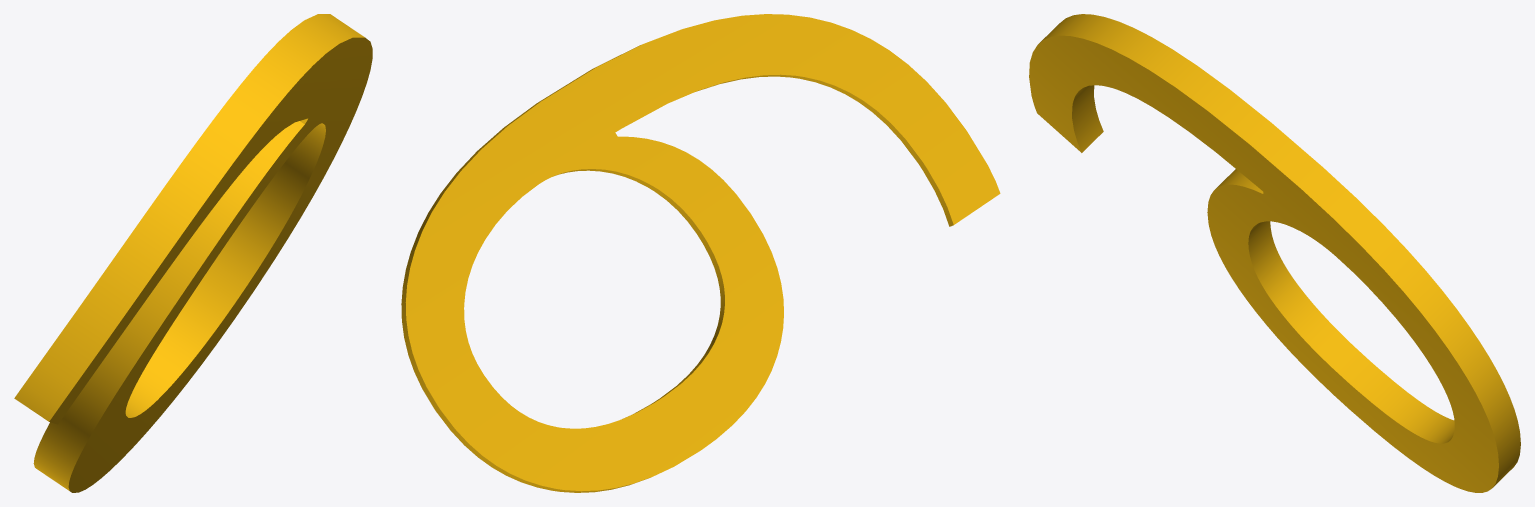
The model's file is Number_6.gltf.
3 views of the same model, side by side, from view 1: azimuth 30°, elevation 25°; view 2: azimuth 150°, elevation 25°; view 3: azimuth 270°, elevation 25° (orthographic). The views are drawn at different scales.
Parts seen in each view (by area): view 1: Sub_4_Cell_2_3_Number_6; view 2: Sub_4_Cell_2_3_Number_6; view 3: Sub_4_Cell_2_3_Number_6.
Part boxes in pixels (<box>): Sub_4_Cell_2_3_Number_6: <box>14,14,372,492</box>; Sub_4_Cell_2_3_Number_6: <box>401,14,1000,492</box>; Sub_4_Cell_2_3_Number_6: <box>1029,14,1520,492</box>.
Size of the model in its own units: 0.0207 by 0.0186 by 0.0193.
